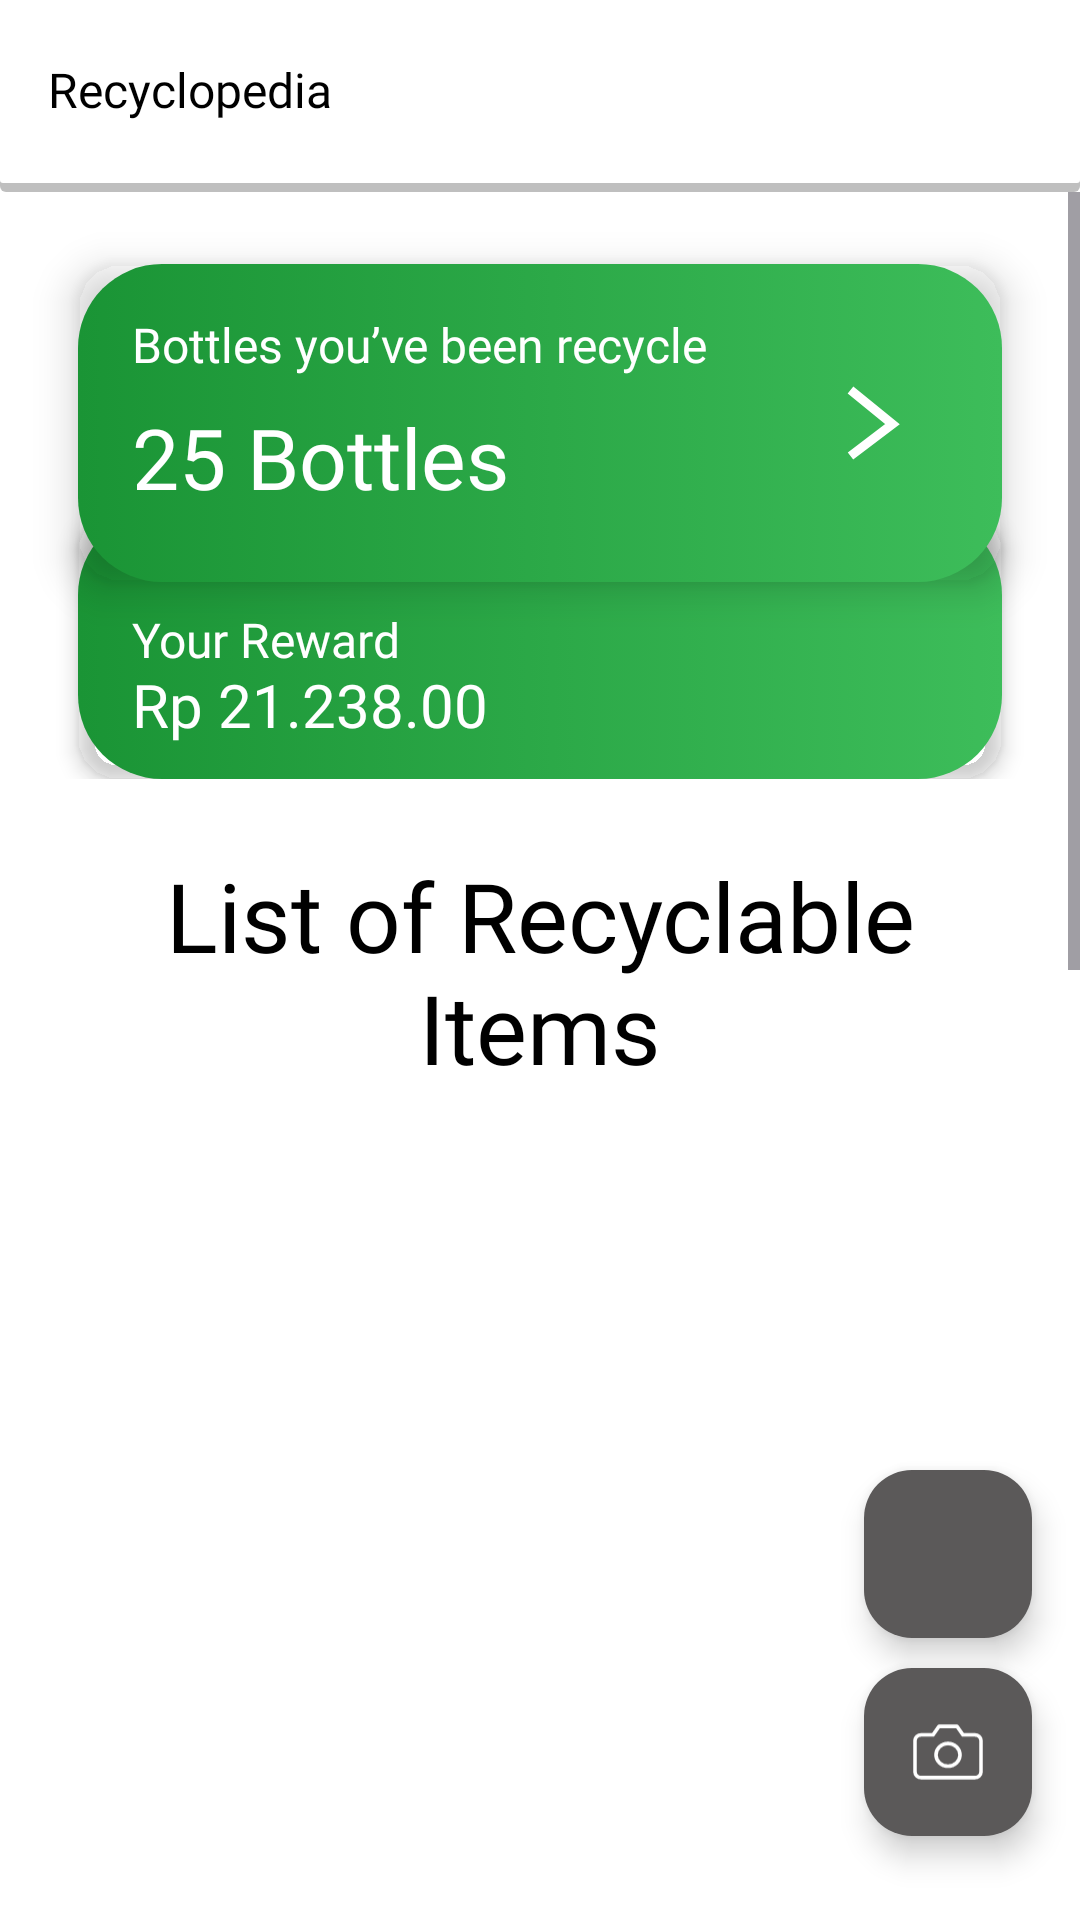

Where icons sit on this 1080×1920 app screen, as (left=x1, top=y1, right=x2, bottom=y2):
arrow right: (left=847, top=386, right=900, bottom=460)
camera: (left=864, top=1668, right=1032, bottom=1836)
